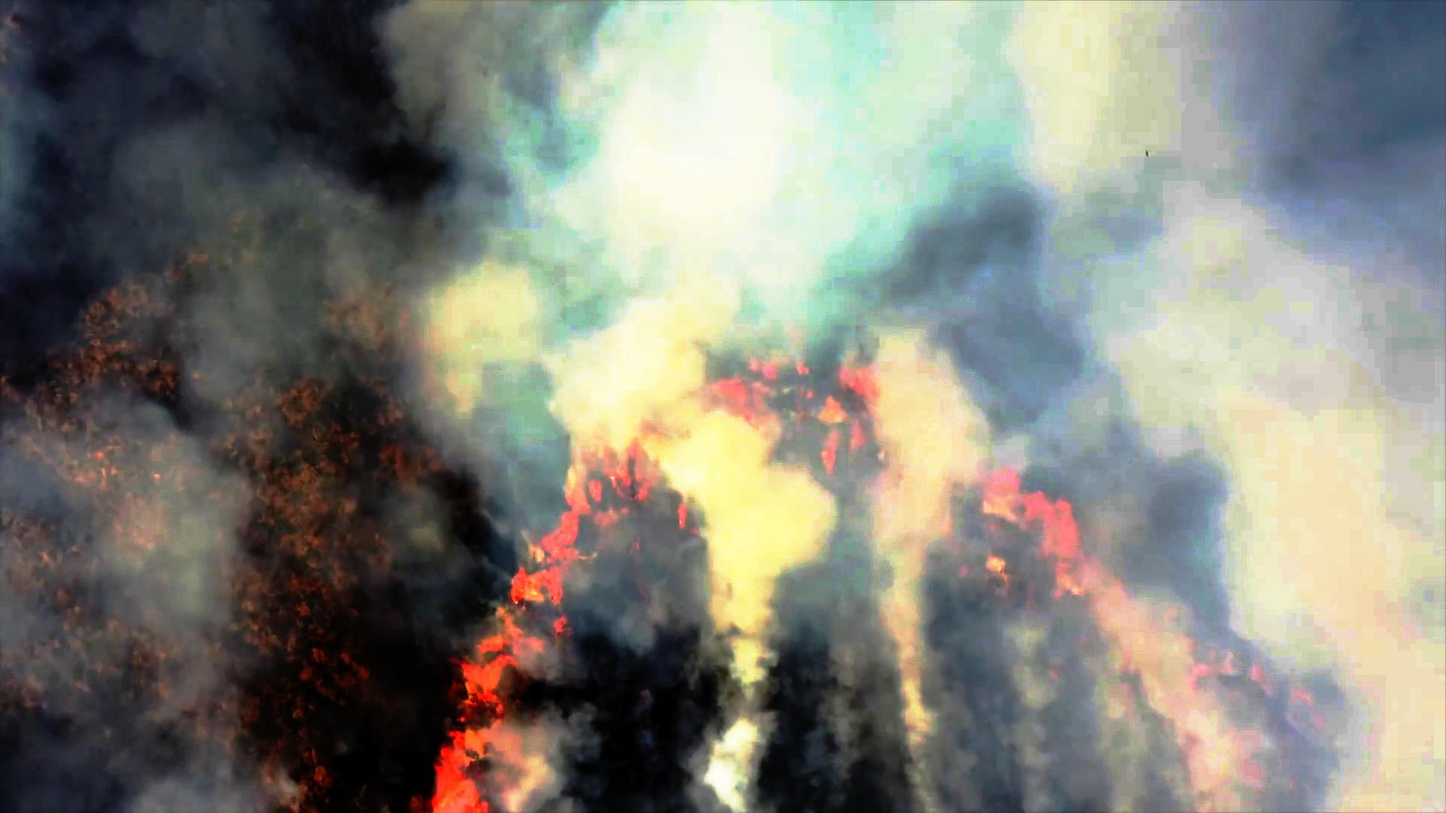fire: (514, 446, 618, 612), (412, 629, 501, 813)
smoke: (509, 0, 1446, 301)
